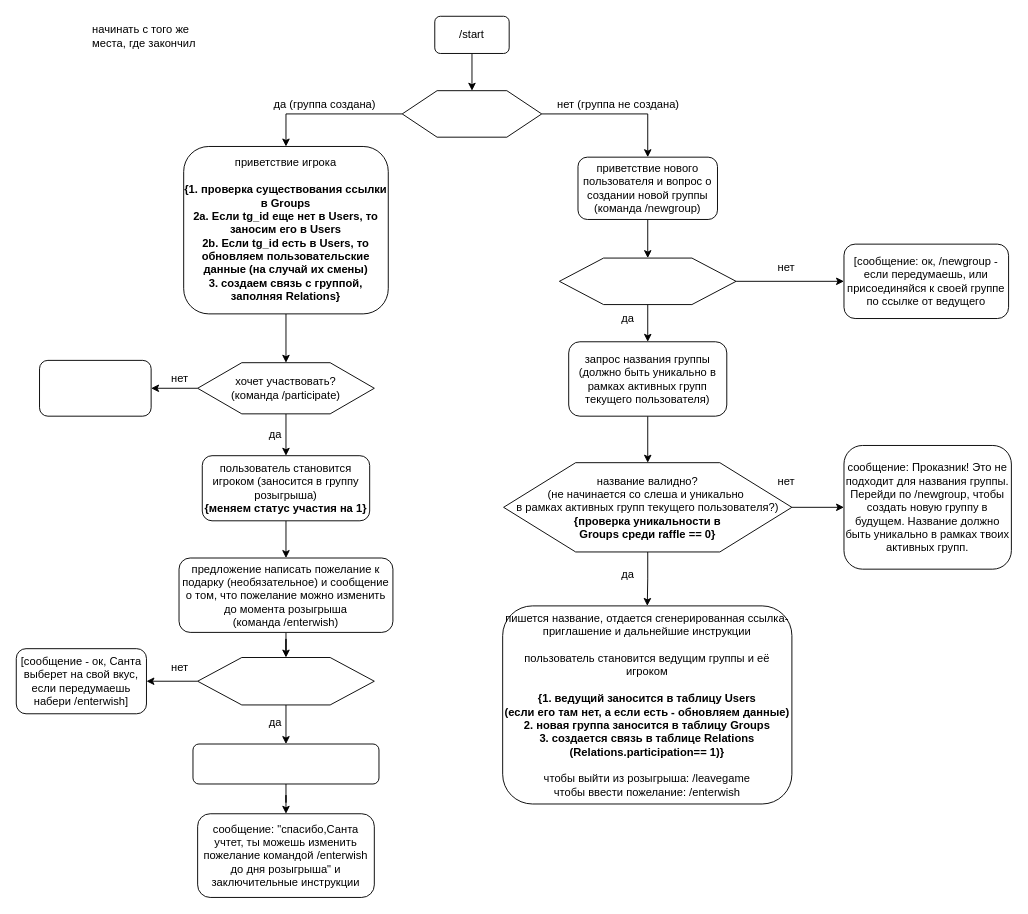
The diagram is 1028 pixels wide and 914 high, and some of its shapes have lost their labels. Each missing label, with the centre of its shape:
[сообщение - ок, /participate, если передумаете]: [95,387]
ввод пожелания {сохранение пожелания в БД}: [285,763]
запуск по ссылке с параметром?: [471,113]
хочет ввести пожелание к подарку для Санты?: [285,681]
хочет создать новую группу?: [647,281]
